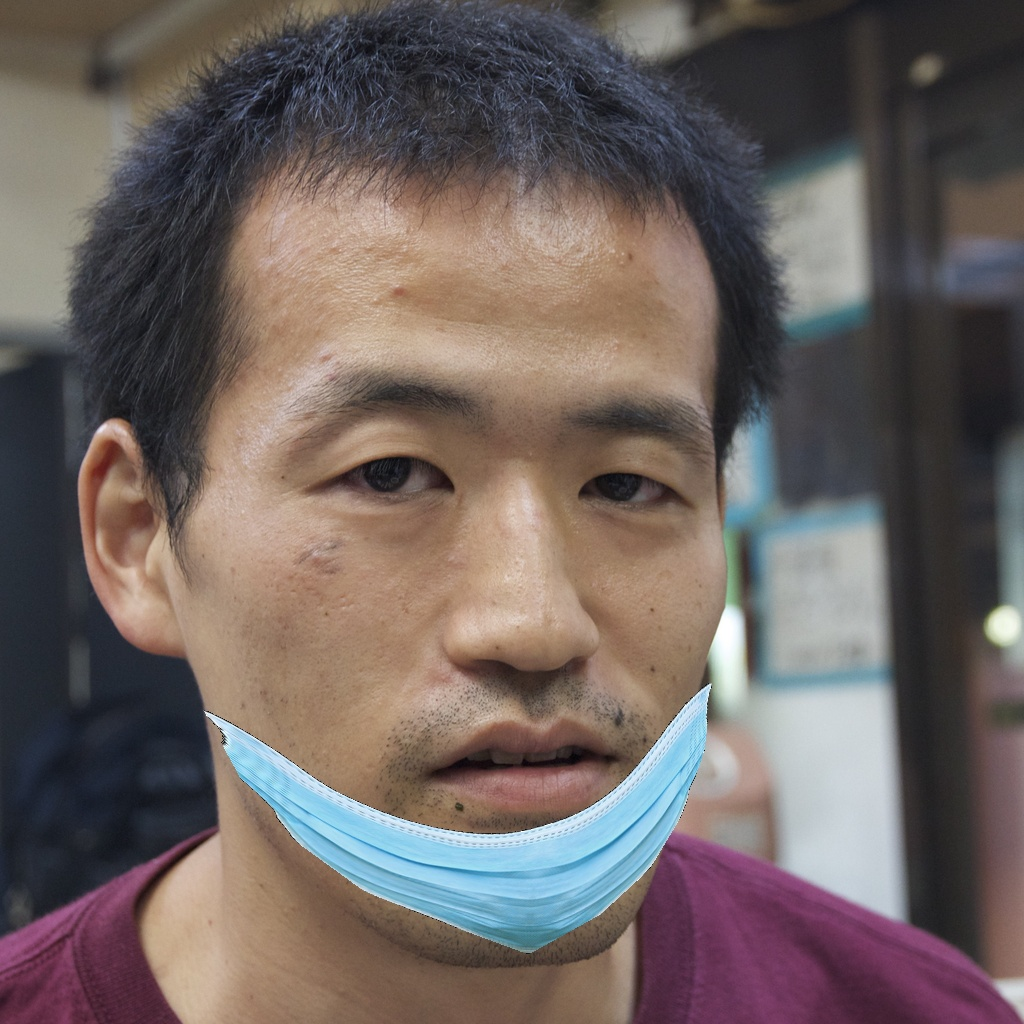Mask_Chin: (190, 360, 724, 967)
